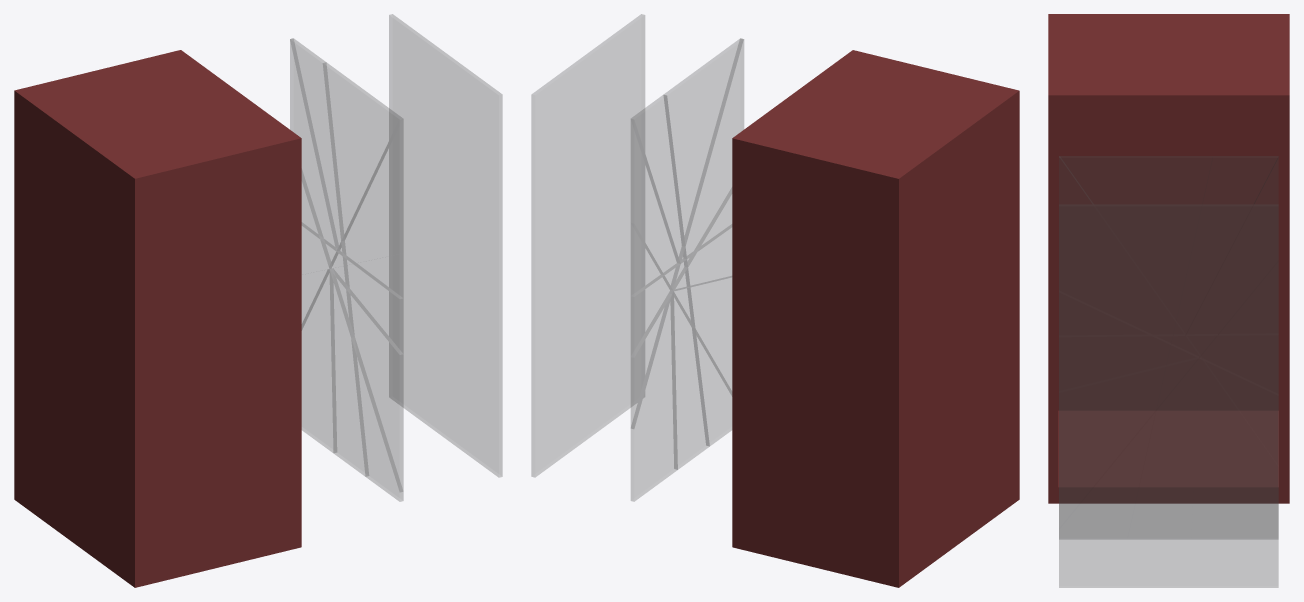
The model's file is Shattered glass box.fbx.
3 views of the same model, side by side, from view 1: azimuth 30°, elevation 25°; view 2: azimuth 150°, elevation 25°; view 3: azimuth 270°, elevation 25° (orthographic).
Visible parts, largest first — view 1: case1, polySurface1, polySurface2, polySurface12, polySurface6, polySurface16, polySurface20, polySurface3, polySurface4, polySurface21, polySurface9, polySurface11 (+3 smaller); view 2: case1, polySurface1, polySurface2, polySurface16, polySurface6, polySurface20, polySurface3, polySurface4, polySurface12, polySurface21, polySurface9, polySurface15 (+3 smaller); view 3: case1, polySurface1, polySurface2, polySurface16, polySurface6, polySurface12, polySurface20, polySurface3, polySurface4, polySurface21, polySurface9, polySurface14 (+4 smaller).
Part boxes in pixels (x1,y1,x2,y2): case1: (14,50,301,587); polySurface1: (389,14,502,477); polySurface2: (323,62,402,240); polySurface12: (346,289,403,491); polySurface6: (341,119,403,263); polySurface16: (302,269,336,452); polySurface20: (330,271,368,476); polySurface3: (290,38,343,250); polySurface4: (290,39,338,250); polySurface21: (351,340,403,501); polySurface9: (344,264,403,354); polySurface11: (354,253,403,298); case1: (732,50,1019,587); polySurface1: (531,14,644,477); polySurface2: (664,38,743,245); polySurface16: (631,291,677,501); polySurface6: (683,38,743,258); polySurface20: (671,292,709,469); polySurface3: (631,95,685,263); polySurface4: (631,119,680,274); polySurface12: (687,276,731,394); polySurface21: (692,328,731,445); polySurface9: (685,224,731,286); polySurface15: (631,294,671,428); case1: (1048,14,1289,503); polySurface1: (1059,204,1278,587); polySurface2: (1059,156,1212,319); polySurface16: (1192,358,1277,538); polySurface6: (1059,156,1175,335); polySurface12: (1059,367,1165,528); polySurface20: (1128,360,1198,538); polySurface3: (1177,156,1278,334); polySurface4: (1186,158,1278,335); polySurface21: (1059,412,1155,538); polySurface9: (1059,336,1170,392); polySurface14: (1201,335,1277,394).
Bounding box in the file's own units: 297 × 311 × 166.
